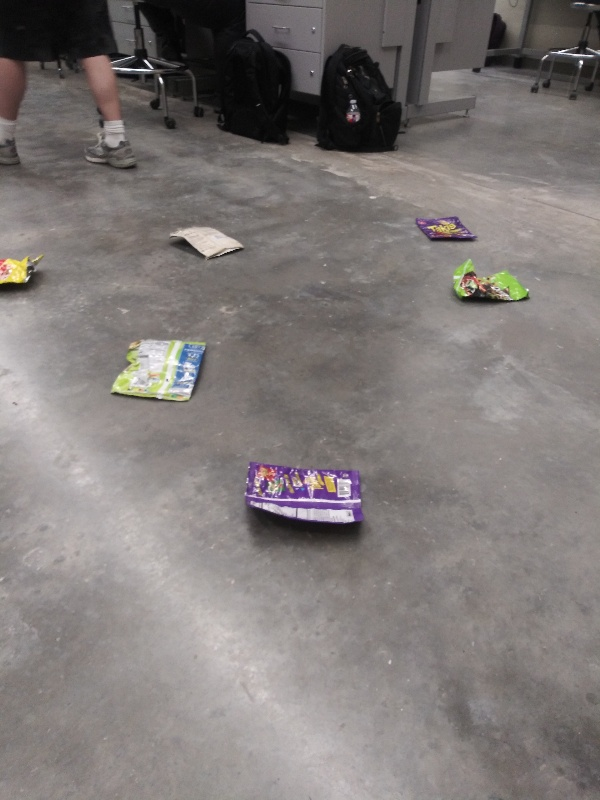bag: (241, 458, 369, 533), (103, 335, 211, 406), (448, 255, 535, 306), (164, 223, 247, 261), (414, 214, 481, 244), (1, 249, 48, 291)
bottle: (341, 93, 366, 126)
